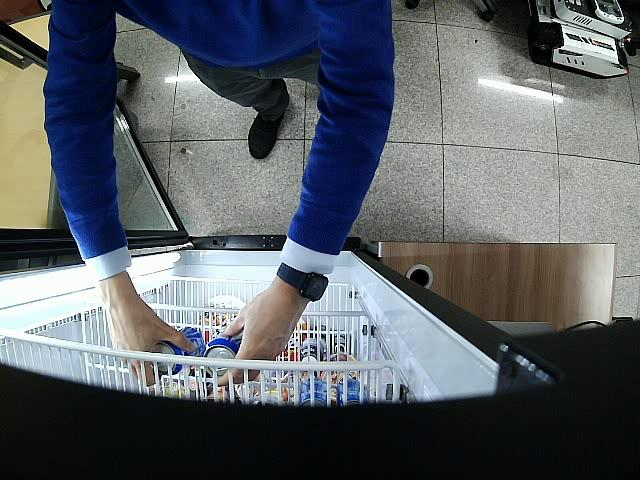00_hand: (96, 283, 197, 386), (216, 289, 299, 386)
13_pocariSweat: (151, 327, 205, 375), (204, 335, 242, 377)
